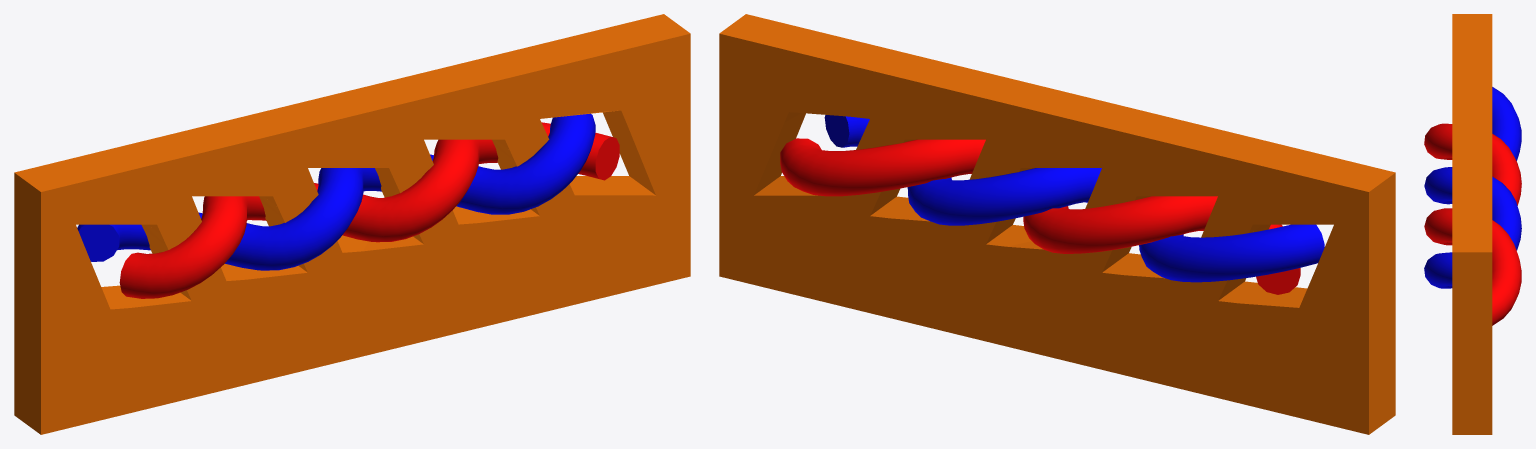
File: s-twist.glb
The picture shows the model from 3 angles, left to right: view 1: azimuth 30°, elevation 25°; view 2: azimuth 150°, elevation 25°; view 3: azimuth 270°, elevation 25°; orthographic projection. The views are drawn at different scales.
Visible parts, largest first — view 1: Bottom Applied, Top Applied, S Blue, S Red; view 2: Bottom Applied, Top Applied, S Red, S Blue; view 3: Top Applied, S Red, Bottom Applied, S Blue.
Part boxes in pixels (<box>): Bottom Applied: <box>14,106,690,434</box>; Top Applied: <box>14,14,690,276</box>; S Blue: <box>77,113,595,270</box>; S Red: <box>119,122,619,298</box>; Bottom Applied: <box>719,107,1395,434</box>; Top Applied: <box>719,14,1395,276</box>; S Red: <box>780,138,1300,294</box>; S Blue: <box>824,115,1324,282</box>; Top Applied: <box>1452,14,1492,311</box>; S Red: <box>1424,123,1521,325</box>; Bottom Applied: <box>1452,307,1492,434</box>; S Blue: <box>1424,87,1521,288</box>.
Size of the model in its own units: 28 by 10 by 4.85.
